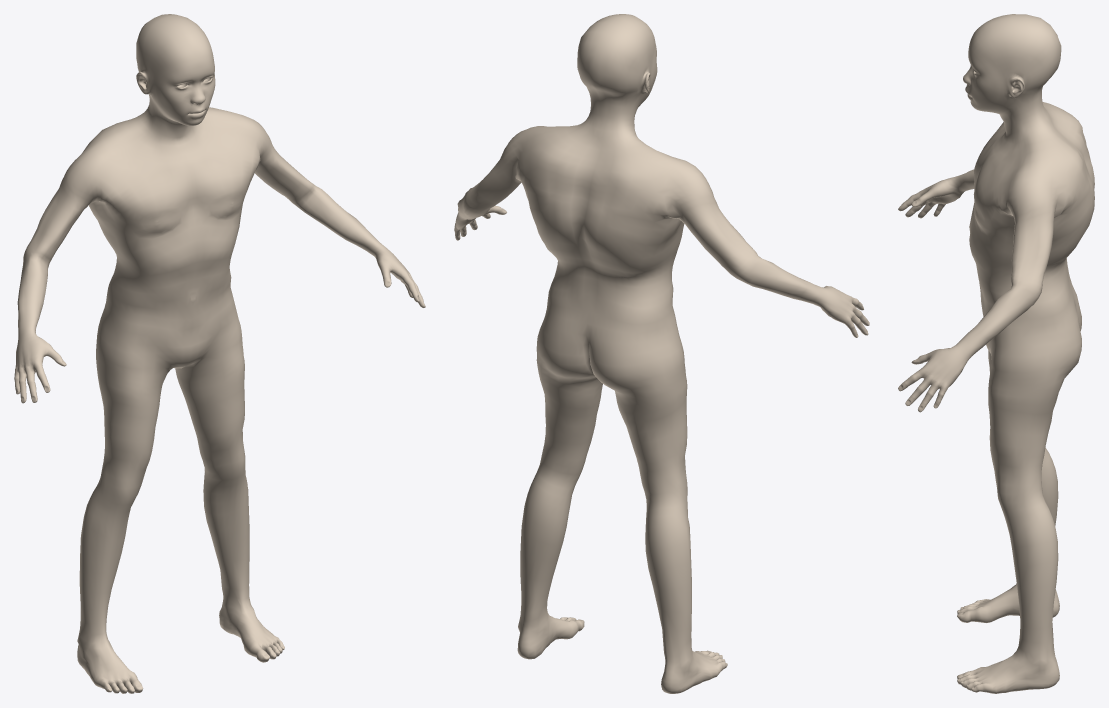
The picture shows the model from 3 angles, left to right: view 1: azimuth 30°, elevation 25°; view 2: azimuth 150°, elevation 25°; view 3: azimuth 270°, elevation 25°; orthographic projection.
Visible parts, largest first — view 1: Human; view 2: Human; view 3: Human.
Part boxes in pixels (bbox=[...]): Human: bbox=[14, 14, 425, 693]; Human: bbox=[454, 14, 869, 693]; Human: bbox=[898, 14, 1094, 693].
Size of the model in its own units: 0.9946 by 1.51 by 0.4238.
